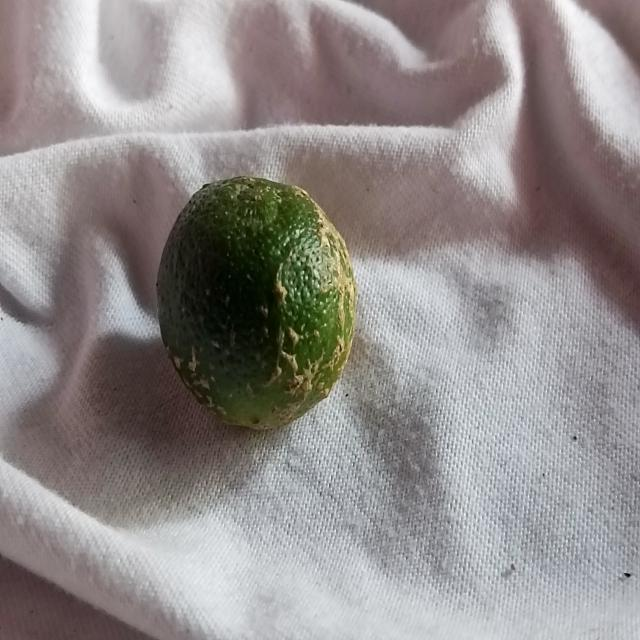scab: (146, 174, 358, 433)
